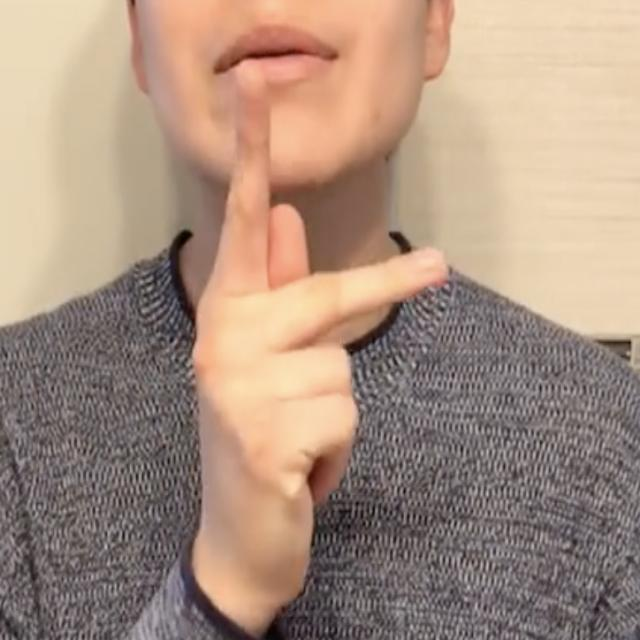PAPA: (193, 41, 454, 599)
